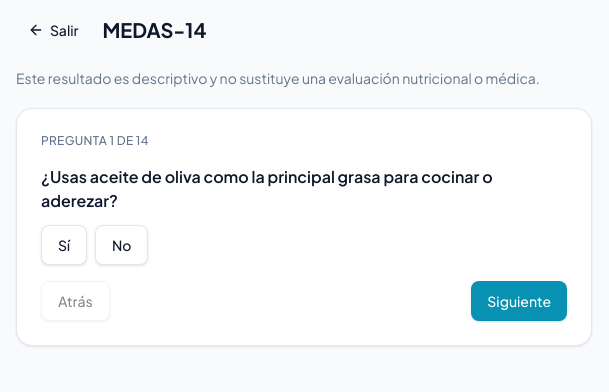
Test case: DietQualityAssessmentPage › validates numeric answers before advancing
This screenshot has width=609, height=392.
Expected: the text "Pregunta 1 de 14" is shown, [41, 133, 149, 148]
Click the button "Sí" at (64, 245), box [41, 225, 87, 265]
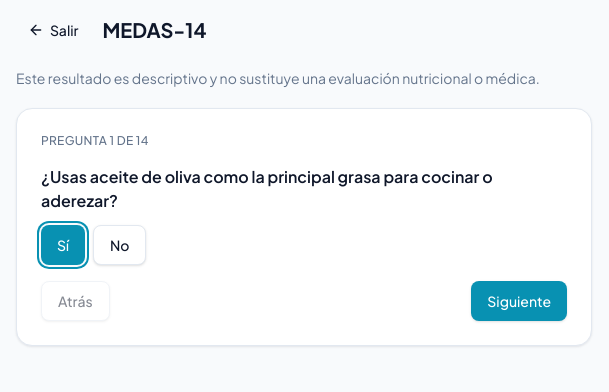
Click the button "Siguiente" at (519, 301), box [471, 281, 567, 321]
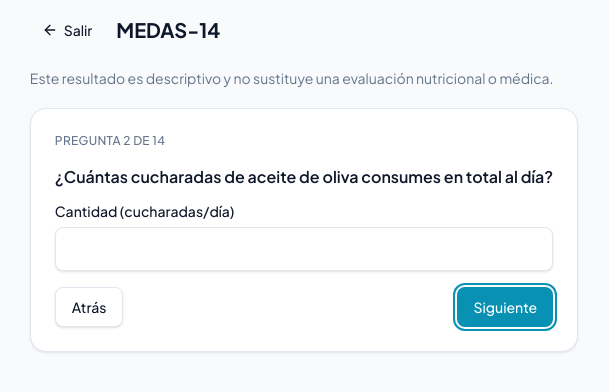
Result: the text "Pregunta 2 de 14" is shown at [55, 133, 165, 148]
Click the button "Siguiente" at (505, 307), box [458, 287, 553, 327]
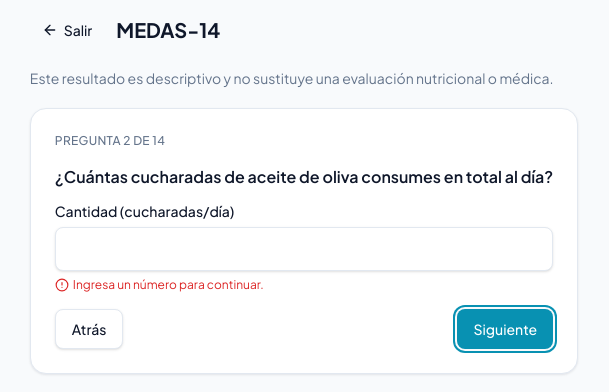
Result: the text "Ingresa un número para continuar." is shown at [55, 277, 264, 292]
// Non-numeric rejected
Type "abc" into the field labelled "Cantidad (cucharadas/día)" at (304, 249), box [55, 227, 553, 271]
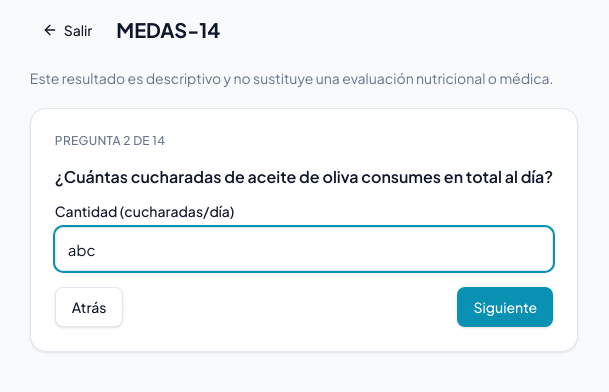
Click the button "Siguiente" at (505, 307), box [458, 287, 553, 327]
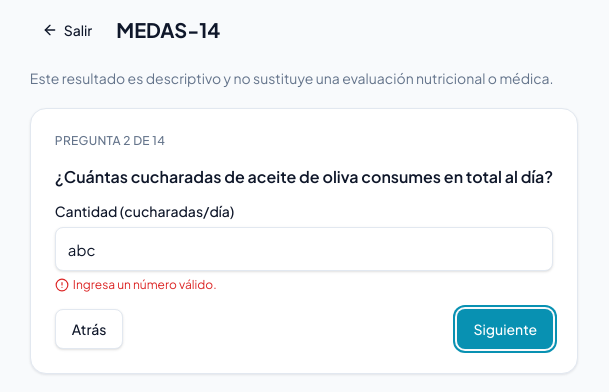
Result: the text "Pregunta 2 de 14" is shown at [55, 133, 165, 148]
Result: the text "Ingresa un número válido." is shown at [55, 277, 217, 292]
